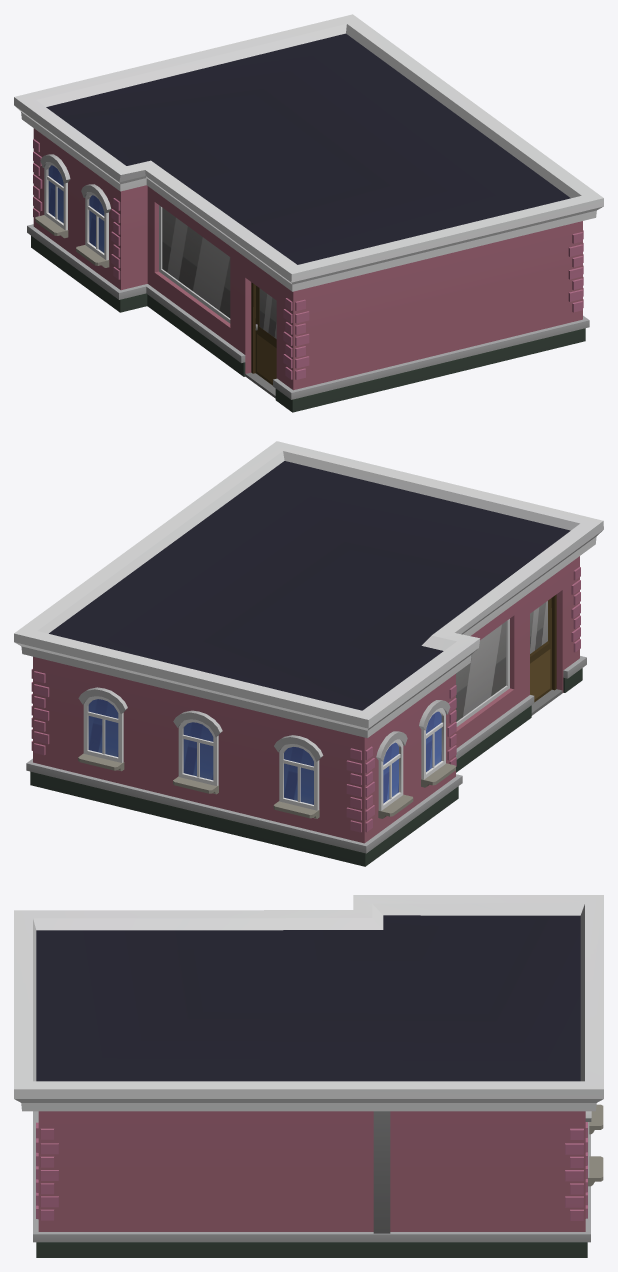
Rendered from Building_1_1_N.glb.
The picture shows the model from 3 angles, top to bottom: view 1: azimuth 30°, elevation 25°; view 2: azimuth 150°, elevation 25°; view 3: azimuth 270°, elevation 25°; orthographic projection. The views are drawn at different scales.
Parts seen in each view (by area): view 1: Building_1_1_N; view 2: Building_1_1_N; view 3: Building_1_1_N.
Part boxes in pixels (box(x1,y1,x2,y2)): Building_1_1_N: box(14, 14, 603, 412); Building_1_1_N: box(14, 441, 603, 866); Building_1_1_N: box(14, 895, 603, 1257).
Size of the model in its own units: 8.22 by 3.41 by 10.51.
3 materials, 3 textured.
